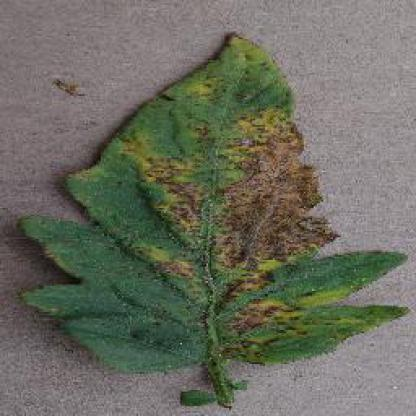bad leaf: (163, 44, 342, 318)
